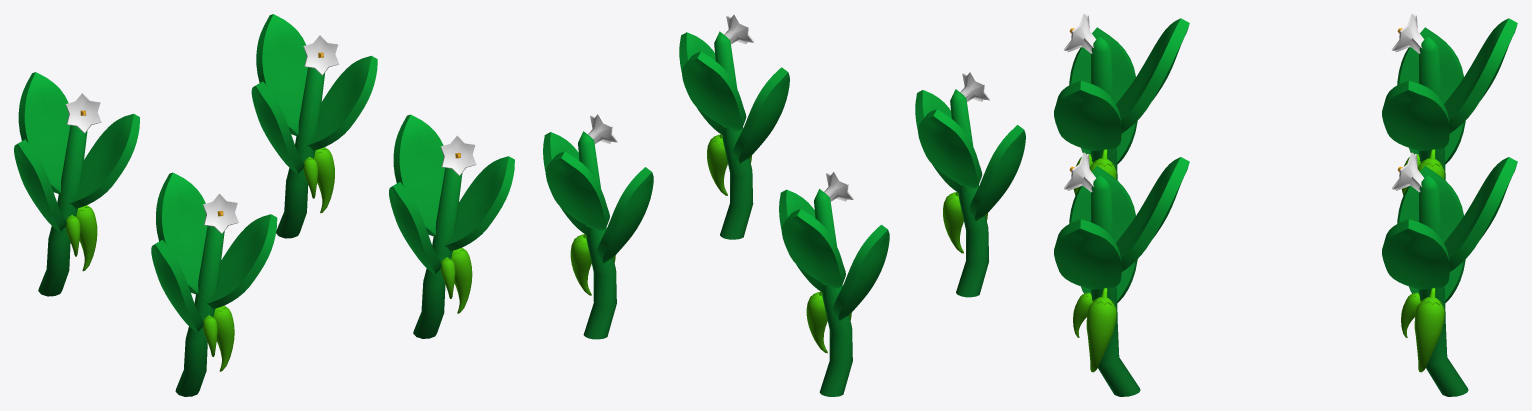
Rendered from Farm_Crop_Chili_Step_02.fbx.
3 views of the same model, side by side, from view 1: azimuth 30°, elevation 25°; view 2: azimuth 150°, elevation 25°; view 3: azimuth 270°, elevation 25° (orthographic). The views are drawn at different scales.
Visible parts, largest first — view 1: Farm_Crop_Chili_Step_02; view 2: Farm_Crop_Chili_Step_02; view 3: Farm_Crop_Chili_Step_02.
Part boxes in pixels (bbox=[...]): Farm_Crop_Chili_Step_02: bbox=[14, 14, 514, 396]; Farm_Crop_Chili_Step_02: bbox=[543, 14, 1025, 396]; Farm_Crop_Chili_Step_02: bbox=[1054, 14, 1517, 396].
Size of the model in its own units: 148 by 83.54 by 141.
